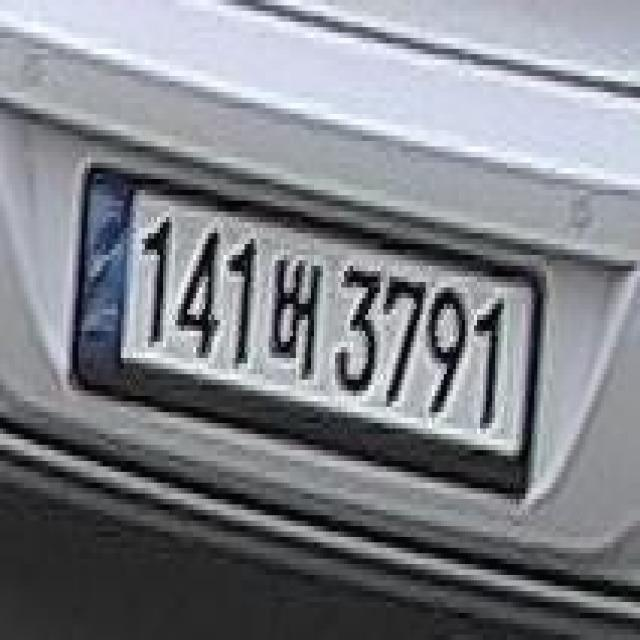illegal_plate: (69, 159, 539, 500)
